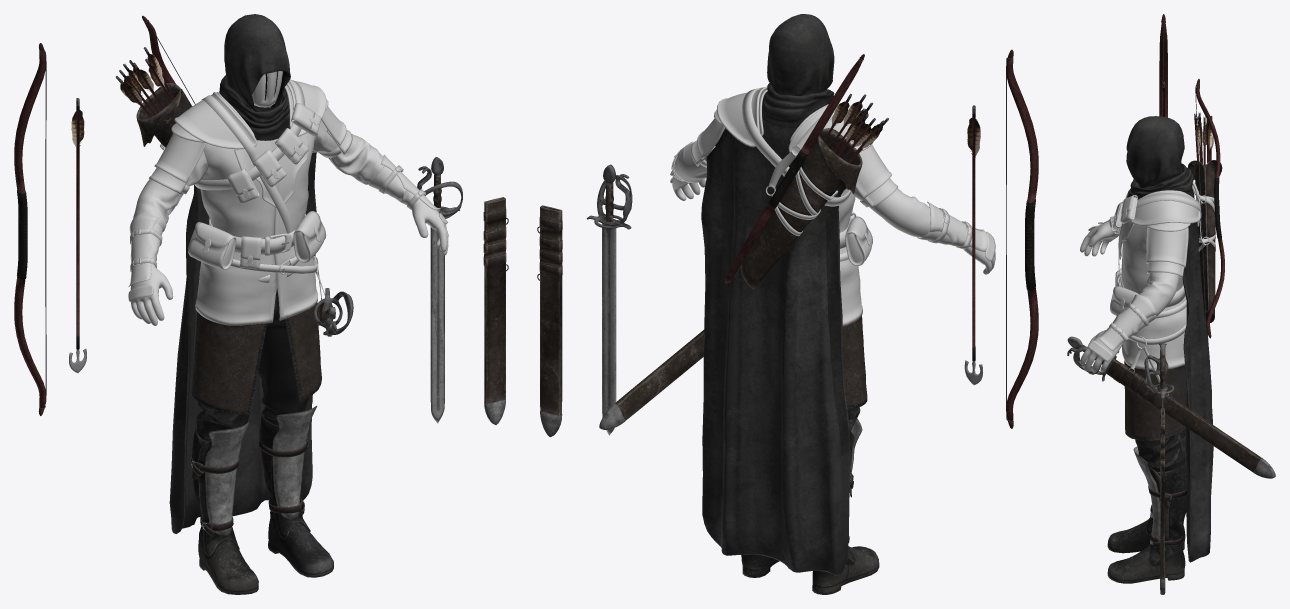
Rendered from winter_girl.fbx.
3 views of the same model, side by side, from view 1: azimuth 30°, elevation 25°; view 2: azimuth 150°, elevation 25°; view 3: azimuth 270°, elevation 25° (orthographic). The views are drawn at different scales.
Visible parts, largest first — view 1: m2, h5, v1, r3; view 2: m2, v1, r3, h5; view 3: m2, h5, v1, r3.
Boxes of the visible parts, left/top/right/bottom form: m2: left=14, top=14, right=508, bottom=533; h5: left=190, top=242, right=333, bottom=594; v1: left=133, top=71, right=384, bottom=325; r3: left=128, top=79, right=448, bottom=325; m2: left=537, top=14, right=1038, bottom=575; v1: left=674, top=86, right=930, bottom=326; r3: left=670, top=87, right=995, bottom=274; h5: left=741, top=315, right=879, bottom=594; m2: left=1067, top=14, right=1275, bottom=594; h5: left=1107, top=360, right=1187, bottom=583; v1: left=1118, top=181, right=1200, bottom=369; r3: left=1080, top=189, right=1215, bottom=395.
Bounding box in the file's own units: 1522 × 1683 × 686.
